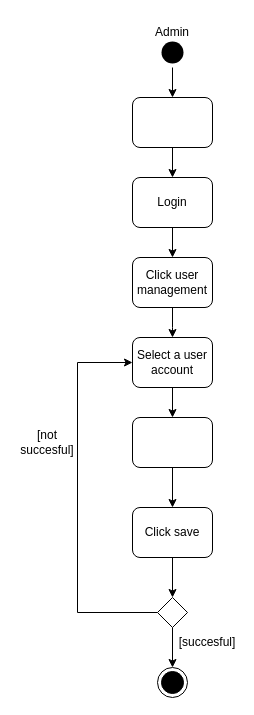
Some shapes in this 254 by 715 pixel diagram are drawn without their labels. Each missing label, with the centre of its shape:
Open system: the point at 172,122
Perfrom one or more actions: the point at 172,442
